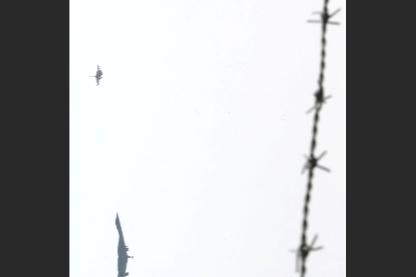B1: (115, 210, 134, 276)
F14: (89, 62, 104, 84)
